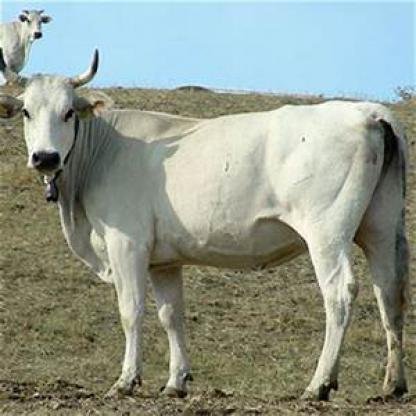cow: (0, 48, 411, 400), (0, 7, 56, 80)
